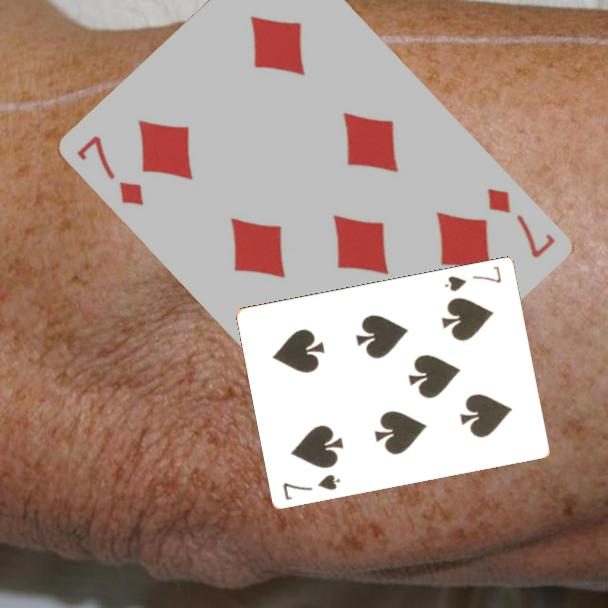d07: (73, 131, 148, 209), (484, 184, 559, 261)
s07: (280, 470, 343, 503), (441, 262, 505, 294)
